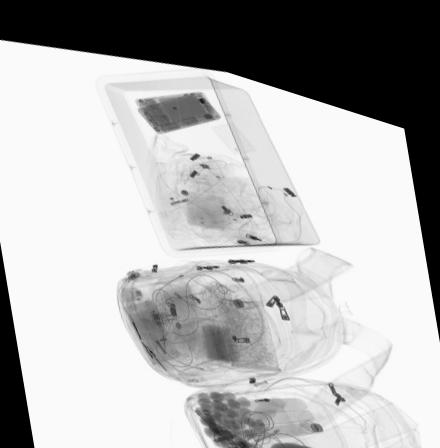Lighter: (164, 185, 189, 195)
